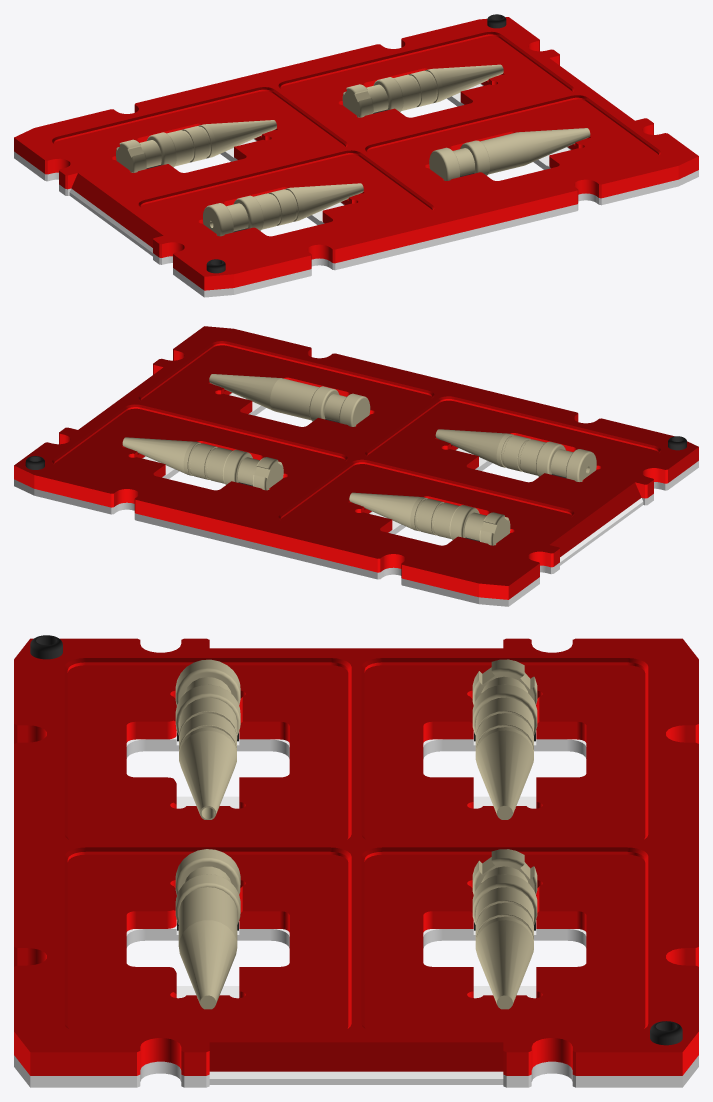
File: Stopper.fbx
The picture shows the model from 3 angles, top to bottom: view 1: azimuth 30°, elevation 25°; view 2: azimuth 150°, elevation 25°; view 3: azimuth 270°, elevation 25°; orthographic projection. The views are drawn at different scales.
Visible parts, largest first — view 1: Stopper_pallet, Stopper_2, Stopper_1, Stopper_4, Stopper_3; view 2: Stopper_pallet, Stopper_4, Stopper_3, Stopper_1, Stopper_2; view 3: Stopper_pallet, Stopper_2, Stopper_1, Stopper_3, Stopper_4.
Boxes of the visible parts, x1=… form: Stopper_pallet: x1=14, y1=14, x2=698, y2=297; Stopper_2: x1=429, y1=128, x2=590, y2=180; Stopper_1: x1=203, y1=183, x2=363, y2=236; Stopper_4: x1=342, y1=64, x2=503, y2=117; Stopper_3: x1=116, y1=120, x2=276, y2=172; Stopper_pallet: x1=14, y1=326, x2=698, y2=606; Stopper_4: x1=122, y1=437, x2=283, y2=490; Stopper_3: x1=349, y1=492, x2=510, y2=545; Stopper_1: x1=435, y1=429, x2=596, y2=481; Stopper_2: x1=209, y1=374, x2=370, y2=426; Stopper_pallet: x1=14, y1=635, x2=698, y2=1087; Stopper_2: x1=175, y1=849, x2=240, y2=1009; Stopper_1: x1=175, y1=659, x2=240, y2=819; Stopper_3: x1=472, y1=659, x2=537, y2=819; Stopper_4: x1=472, y1=849, x2=537, y2=1009.
Bounding box in the file's own units: 33.37 × 2.45 × 23.35.
